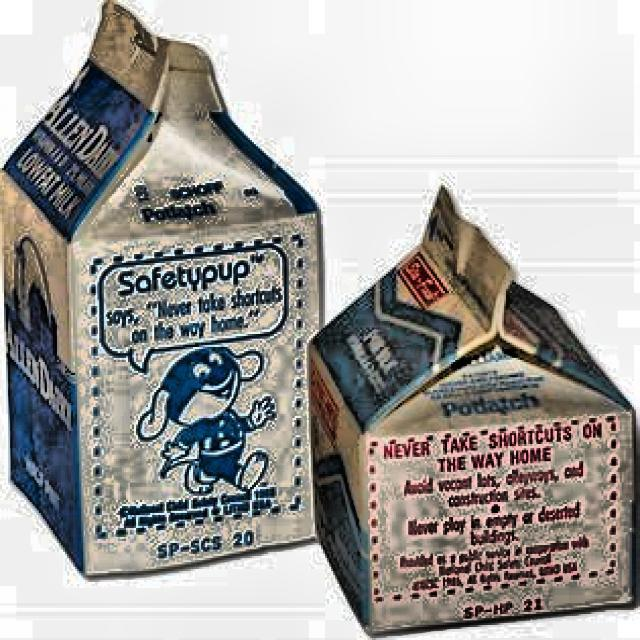cardboard: (0, 0, 323, 578), (307, 183, 638, 636)
